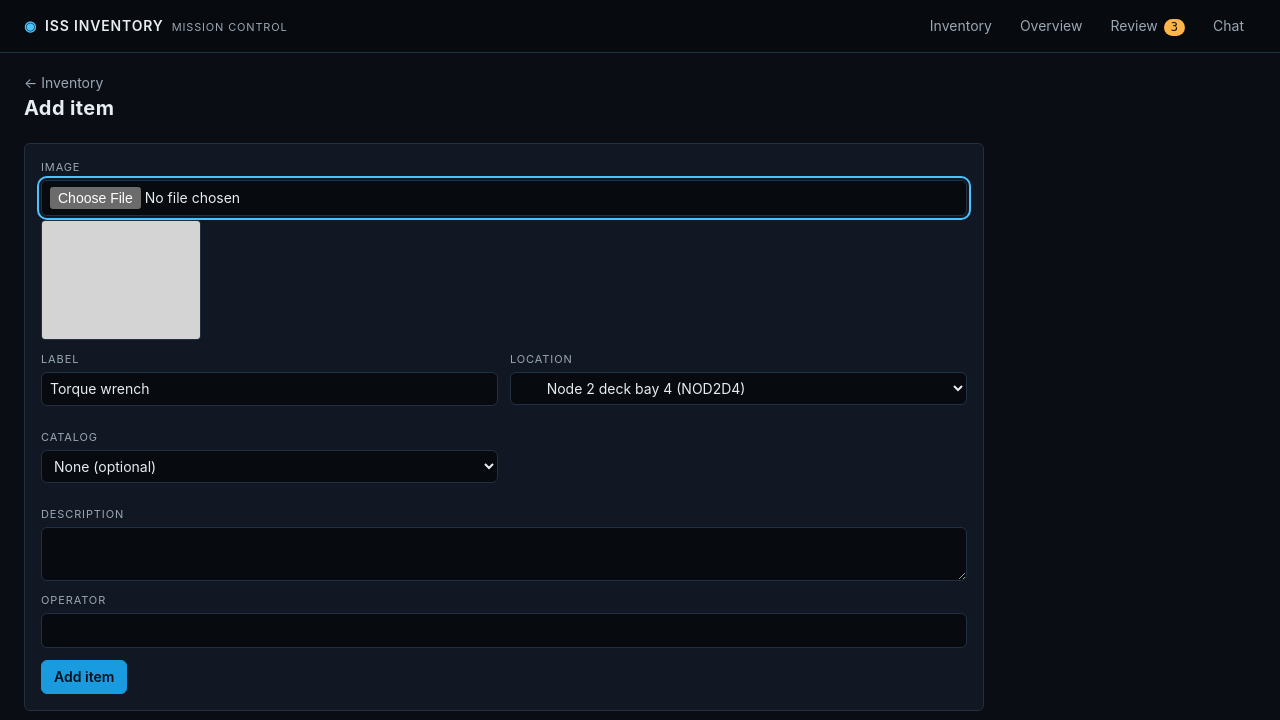
it: AC-UI-6 add item › AC-UI-6 API 422 shows an error toast and keeps the form values
Earlier steps of the test are not shown.
Click the button "Add item".
click(84, 677)  # box [41,660,127,694]
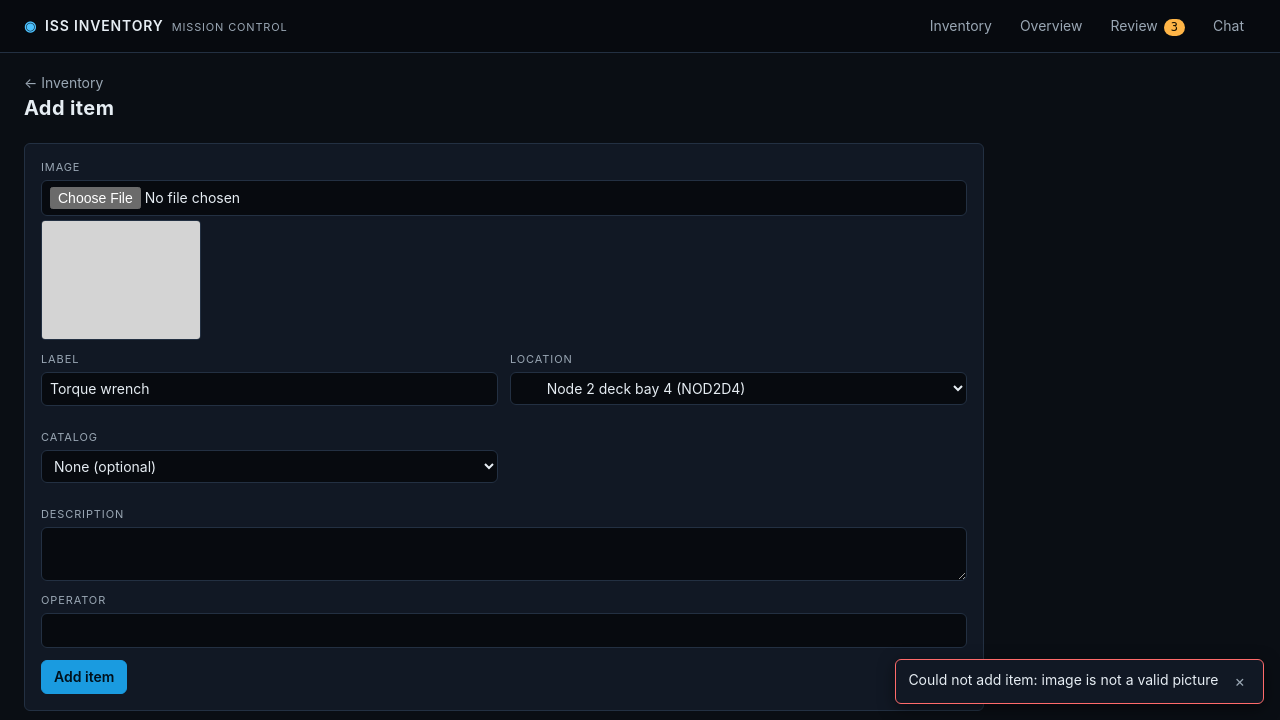
Expected: the field labelled "Label" holds "Torque wrench", [41,372,498,406]
Expected: the text "Could not add item: image is not a valid picture" is shown, [908,670,1218,690]
